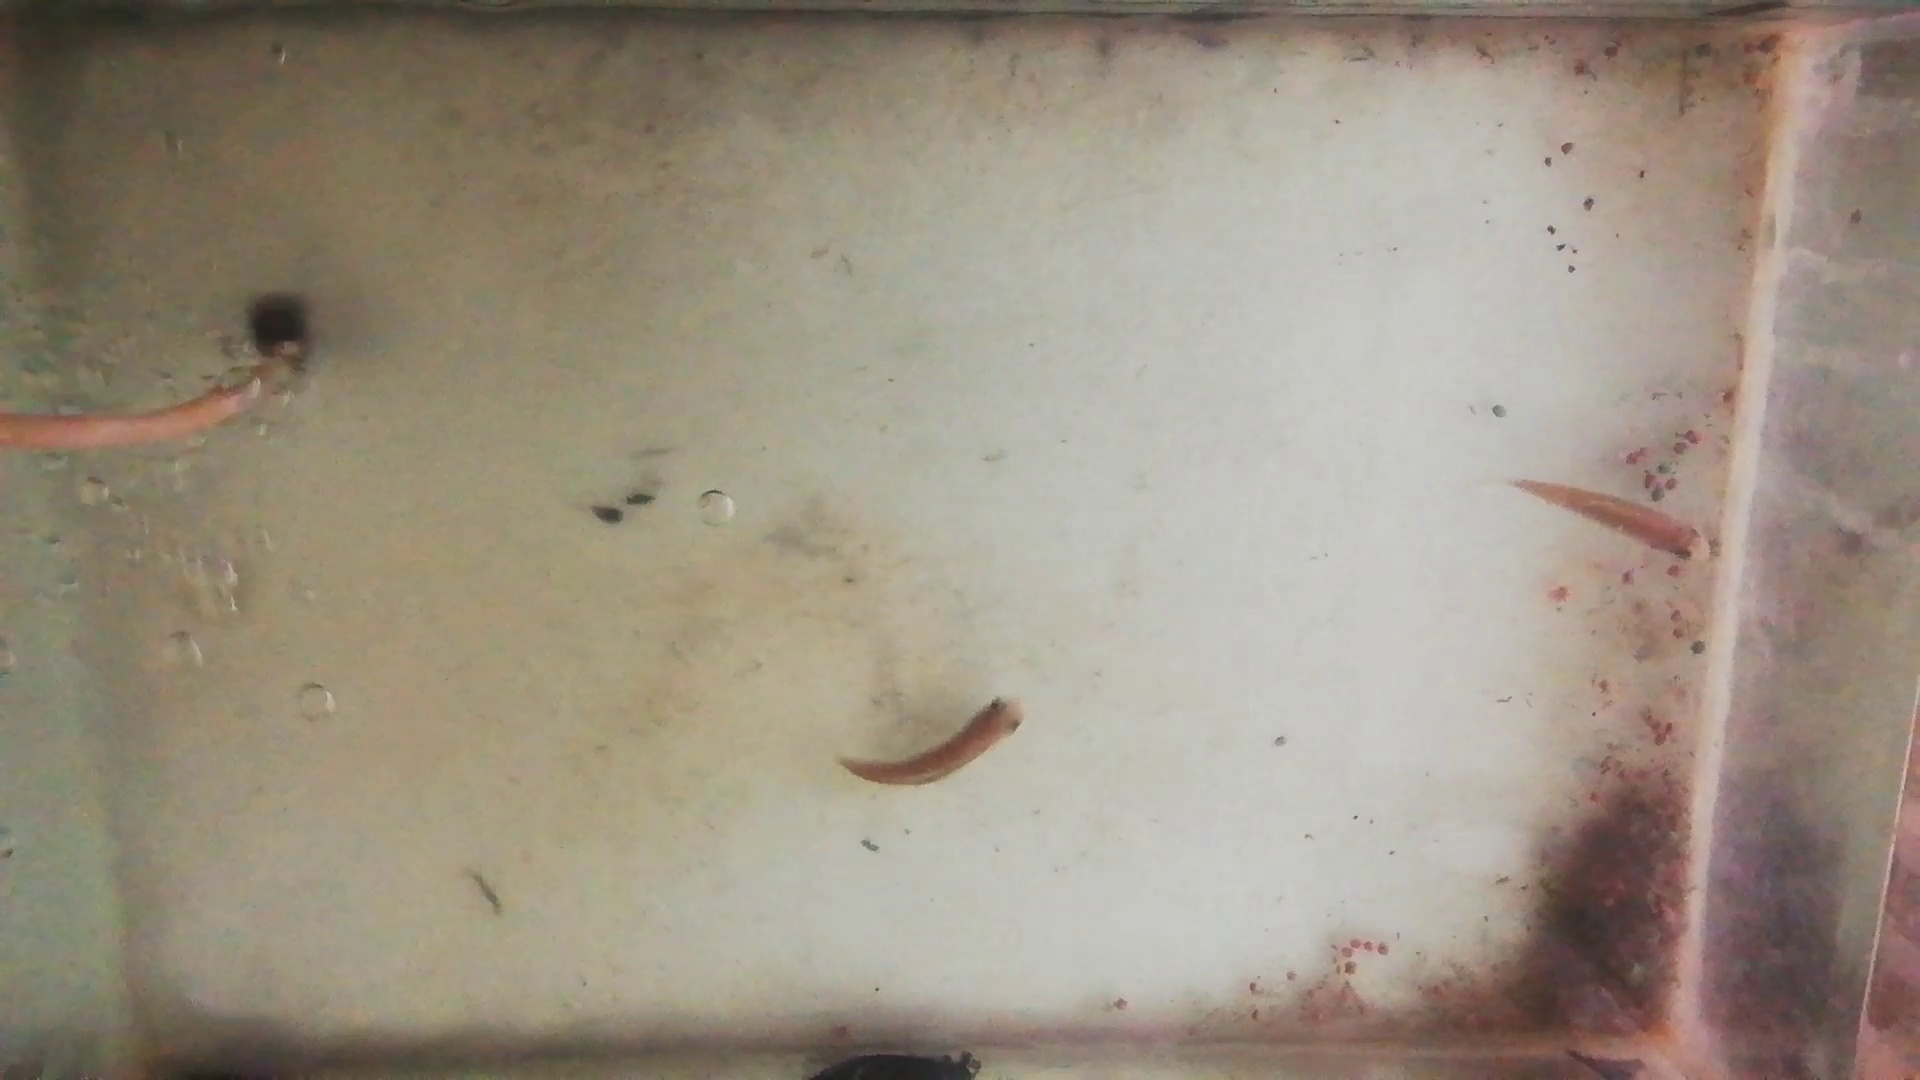fish: (1513, 477, 1716, 570), (837, 699, 1027, 786)
